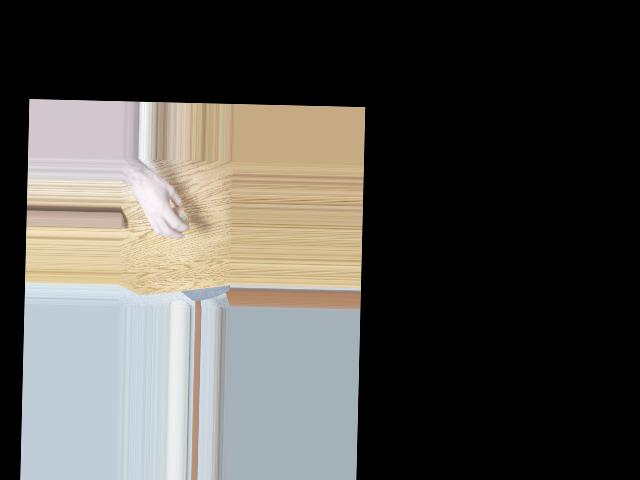onion: (167, 205, 188, 234)
